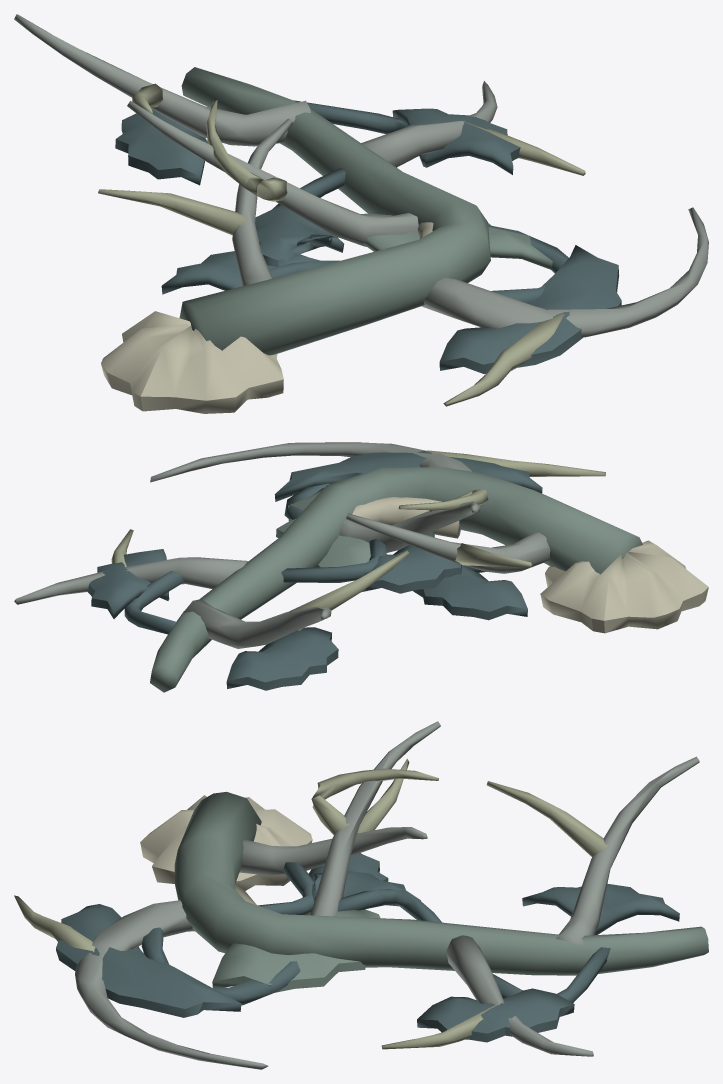
File: nerve_lace_corner_lod2.glb
3 views of the same model, one above another, from view 1: azimuth 30°, elevation 25°; view 2: azimuth 150°, elevation 25°; view 3: azimuth 270°, elevation 25° (orthographic). The views are drawn at different scales.
Parts seen in each view (by area): view 1: LOD2_tissue_mature, LOD2_tissue, LOD2_tissue_fold, LOD2_calcite, LOD2_tissue_young; view 2: LOD2_tissue_mature, LOD2_tissue_fold, LOD2_tissue, LOD2_calcite, LOD2_tissue_young; view 3: LOD2_tissue_mature, LOD2_tissue_fold, LOD2_tissue, LOD2_tissue_young, LOD2_calcite.
Part boxes in pixels (x1=…): LOD2_tissue_mature: x1=179, y1=67, x2=552, y2=355; LOD2_tissue: x1=14, y1=14, x2=708, y2=337; LOD2_tissue_fold: x1=115, y1=100, x2=621, y2=374; LOD2_calcite: x1=101, y1=222, x2=433, y2=413; LOD2_tissue_young: x1=98, y1=83, x2=585, y2=406; LOD2_tissue_mature: x1=150, y1=467, x2=642, y2=692; LOD2_tissue_fold: x1=87, y1=451, x2=542, y2=690; LOD2_tissue: x1=14, y1=442, x2=550, y2=648; LOD2_calcite: x1=352, y1=497, x2=708, y2=633; LOD2_tissue_young: x1=111, y1=450, x2=605, y2=630; LOD2_tissue_mature: x1=174, y1=791, x2=708, y2=992; LOD2_tissue_fold: x1=56, y1=853, x2=679, y2=1042; LOD2_tissue: x1=75, y1=721, x2=699, y2=1069; LOD2_tissue_young: x1=14, y1=758, x2=607, y2=1049; LOD2_calcite: x1=140, y1=795, x2=312, y2=905.
Bounding box in the file's own units: 2.97 × 0.8489 × 3.3.
